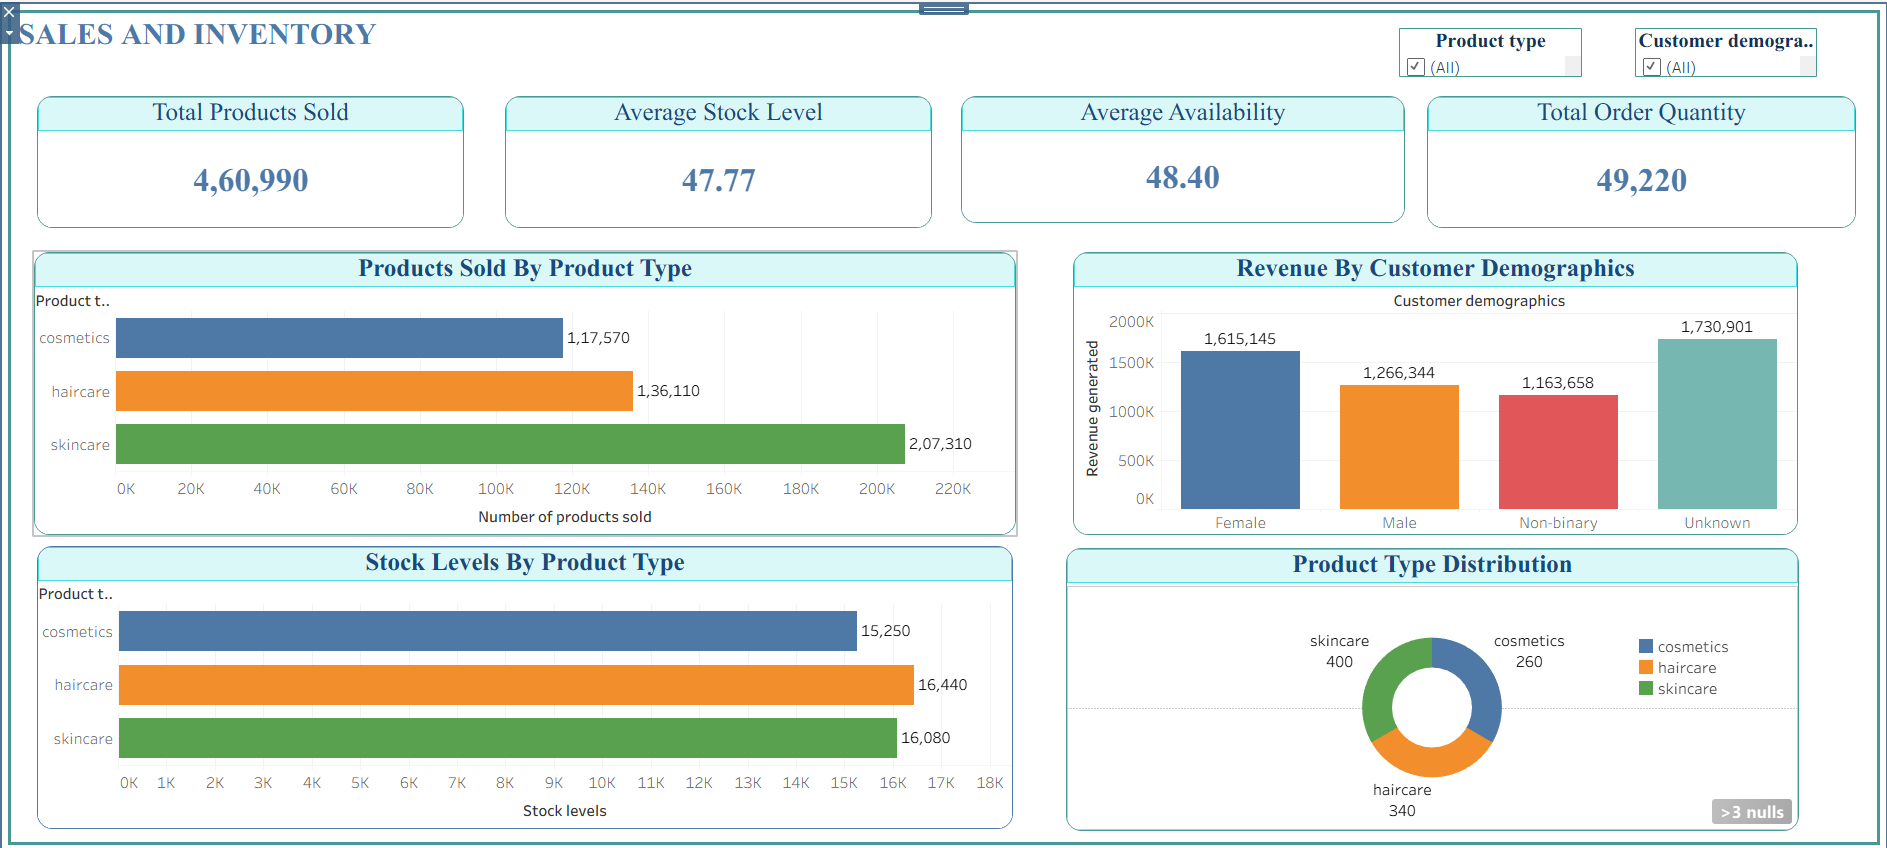

What the dashboard file says about the page in this screenshot:
{"tool":"tableau","page":{"name":"Sales & Inventory","canvas":[1000,1000],"units":"permille","ordinal":2},"visuals":[{"type":"title","box":[5.8,12.9,988.3,49.4]},{"type":"filter","title":"Products Sold By Product Type","param":"[federated.02h5oi51cr7syl1cryxu90dtj5b1].[none:Product type:nk]","box":[741.2,30.6,96.7,57.6]},{"type":"filter","title":"Revenue By Customer Demographics","param":"[federated.02h5oi51cr7syl1cryxu90dtj5b1].[none:Customer demographics:nk]","box":[866,30.6,96.4,57.6]},{"type":"worksheet","title":"Total Products Sold","mark":"Automatic","box":[19.6,110.5,226.2,155.1]},{"type":"worksheet","title":"Average Stock Level","mark":"Automatic","box":[267.5,110.5,226.2,155.1]},{"type":"worksheet","title":"Average Availability","mark":"Automatic","box":[508.8,110.5,235.4,149.2]},{"type":"worksheet","title":"Total Order Quantity","mark":"Automatic","box":[755.8,110.5,227.2,155.1]},{"type":"worksheet","title":"Products Sold By Product Type","mark":"Automatic","rows":["Product type"],"cols":["Number of products sold"],"box":[18,293.8,520.1,332.6]},{"type":"worksheet","title":"Revenue By Customer Demographics","mark":"Automatic","rows":["Revenue generated"],"cols":["Customer demographics"],"box":[568.3,293.8,383.9,332.6]},{"type":"worksheet","title":"Stock Levels By Product Type","mark":"Automatic","rows":["Product type"],"cols":["Stock levels"],"box":[19.6,639.2,517,332.6]},{"type":"worksheet","title":"Product Type Distribution","mark":"Pie","rows":["Availability","Availability"],"box":[564.7,641.6,388.2,332.6]},{"type":"legend","title":"Product Type Distribution","param":"[federated.02h5oi51cr7syl1cryxu90dtj5b1].[none:Product type:nk]","box":[866.4,745,84.6,85.8]}]}

Visuals, with their boxes on the dashboard's canvas, which has no fixed pixel size, in thousandths of its width and height (x1, y1, x2, y2). These are canvas units, not pixel positions in the 1887x848 screenshot, which may show the page scaled, cropped or inside an application window:
title: bbox=(6, 13, 994, 62)
"Products Sold By Product Type" filter: bbox=(741, 31, 838, 88)
"Revenue By Customer Demographics" filter: bbox=(866, 31, 962, 88)
"Total Products Sold" worksheet: bbox=(20, 110, 246, 266)
"Average Stock Level" worksheet: bbox=(268, 110, 494, 266)
"Average Availability" worksheet: bbox=(509, 110, 744, 260)
"Total Order Quantity" worksheet: bbox=(756, 110, 983, 266)
"Products Sold By Product Type" worksheet: bbox=(18, 294, 538, 626)
"Revenue By Customer Demographics" worksheet: bbox=(568, 294, 952, 626)
"Stock Levels By Product Type" worksheet: bbox=(20, 639, 537, 972)
"Product Type Distribution" worksheet (Pie marks): bbox=(565, 642, 953, 974)
"Product Type Distribution" legend: bbox=(866, 745, 951, 831)
